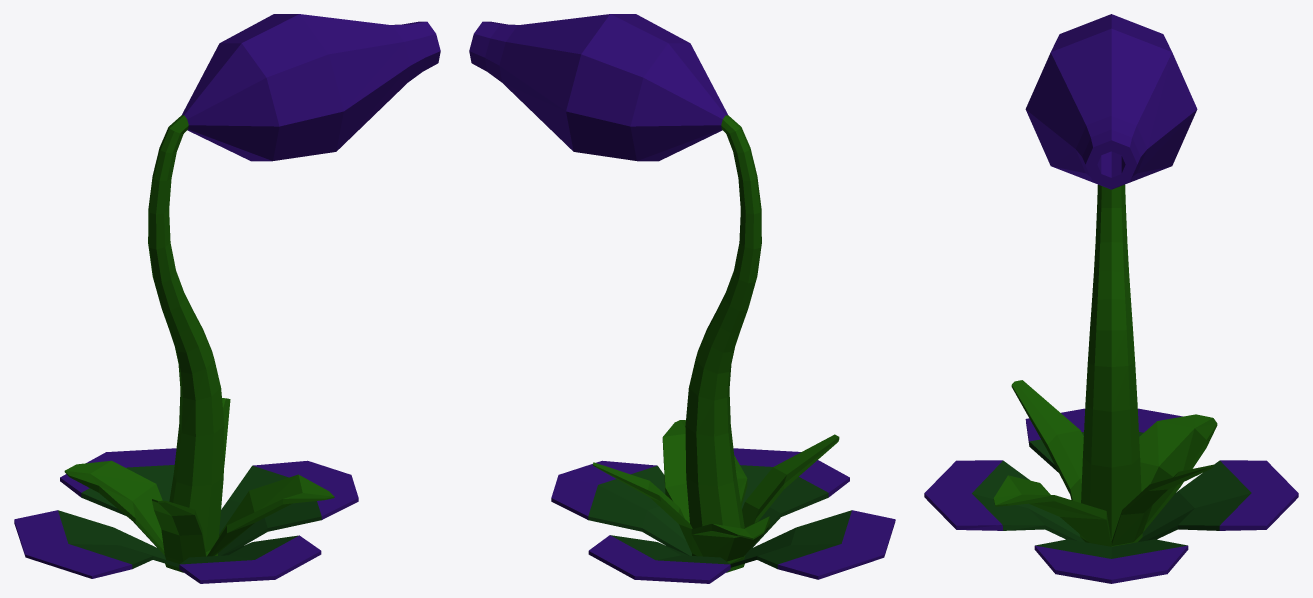
File: Joshua_M_Plant.fbx
The picture shows the model from 3 angles, left to right: view 1: azimuth 30°, elevation 25°; view 2: azimuth 150°, elevation 25°; view 3: azimuth 270°, elevation 25°; orthographic projection. The views are drawn at different scales.
Parts seen in each view (by area): view 1: Cylinder001; view 2: Cylinder001; view 3: Cylinder001.
Boxes of the visible parts, x1=… form: Cylinder001: x1=14, y1=14, x2=440, y2=583; Cylinder001: x1=469, y1=14, x2=895, y2=583; Cylinder001: x1=924, y1=14, x2=1298, y2=583.
Bounding box in the file's own units: 233 × 287 × 169.
